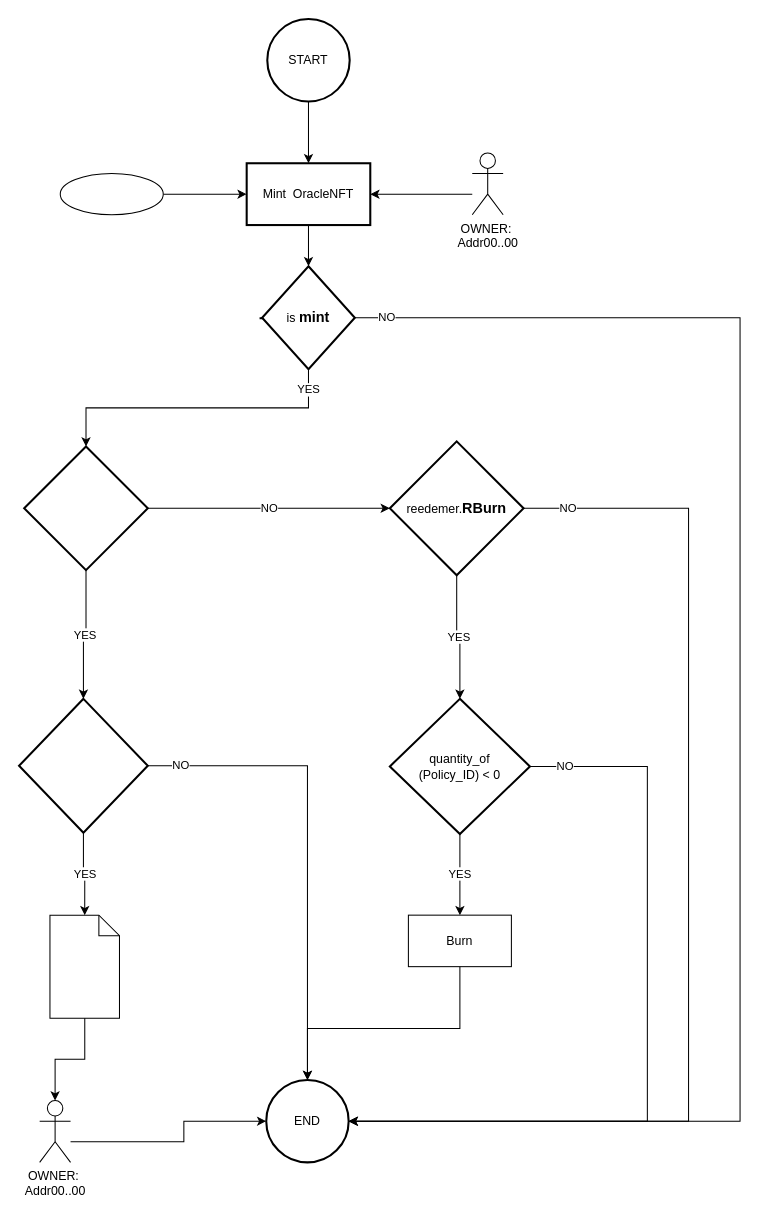
Some shapes in this 766 by 1216 pixel diagram are drawn without their labels. The box of each missing label's shape, as (x1, y1, x2, y2) in pixels:
Inputs has utxo_ref: (18, 697, 148, 833)
OracleNFT PolicyID = 00..01: (49, 914, 119, 1018)
reedemer. RMint: (23, 445, 148, 571)
utxo_ref: (59, 173, 163, 215)
